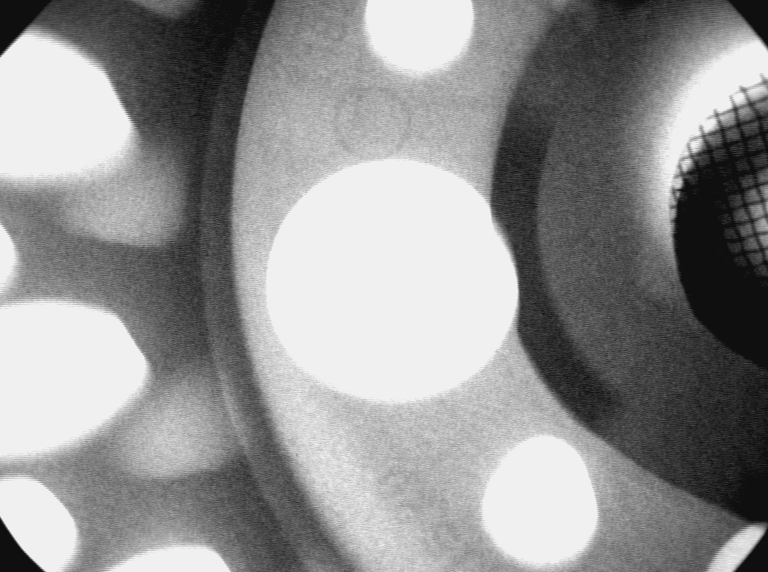defect: (553, 5, 599, 28)
